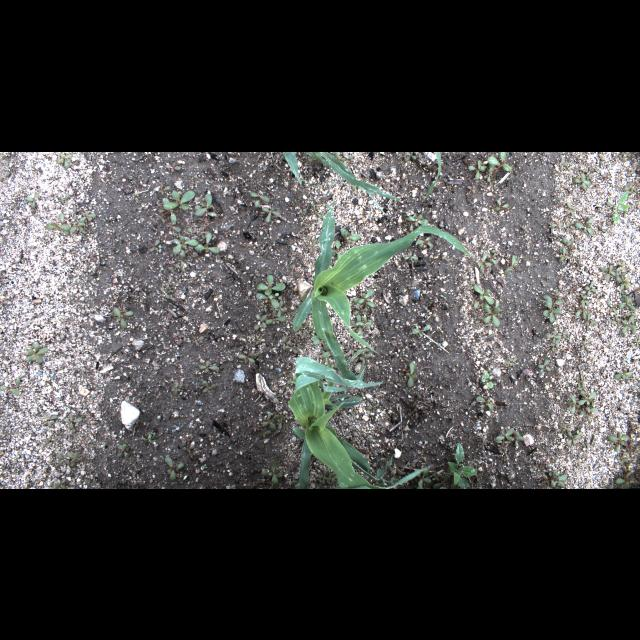crop: (292, 205, 472, 388), (288, 356, 430, 488), (304, 151, 400, 199), (424, 152, 442, 198), (282, 152, 302, 184)
weed: (448, 441, 478, 487), (572, 298, 598, 332), (485, 152, 513, 182), (159, 189, 195, 211), (170, 234, 198, 260), (255, 272, 285, 296), (612, 190, 632, 224), (193, 230, 220, 254), (492, 427, 524, 447), (352, 286, 376, 312), (191, 192, 217, 216), (156, 196, 178, 224), (262, 458, 282, 487), (482, 298, 501, 328), (542, 294, 562, 322), (163, 456, 184, 482), (26, 340, 48, 364), (472, 284, 494, 308), (466, 158, 488, 180), (46, 220, 76, 236), (609, 432, 629, 454), (0, 376, 22, 396), (354, 314, 374, 336), (260, 412, 284, 430), (502, 253, 520, 277), (64, 414, 84, 434), (114, 308, 134, 328), (251, 190, 271, 210), (544, 329, 562, 351), (576, 214, 594, 236), (404, 360, 418, 388), (432, 471, 456, 487), (402, 213, 428, 227), (340, 226, 360, 244), (54, 448, 74, 466), (413, 467, 431, 487), (548, 469, 566, 488), (578, 390, 596, 408), (598, 264, 616, 282), (262, 206, 282, 222), (56, 152, 76, 168), (566, 395, 582, 415), (621, 314, 637, 334), (256, 292, 278, 306), (264, 310, 286, 324), (614, 472, 632, 488), (566, 427, 582, 445), (572, 172, 590, 188), (560, 235, 576, 253), (68, 220, 88, 234), (163, 158, 183, 172), (476, 251, 490, 271), (43, 412, 59, 428), (271, 301, 287, 317), (618, 296, 636, 310), (198, 360, 218, 372), (412, 324, 432, 336), (78, 209, 98, 221), (476, 396, 494, 409), (578, 406, 596, 419), (537, 358, 551, 374), (202, 380, 218, 394), (253, 314, 267, 330), (616, 274, 630, 290), (238, 352, 256, 364), (415, 236, 433, 248), (481, 372, 494, 388), (494, 198, 511, 210), (558, 245, 570, 262), (116, 443, 130, 457), (142, 432, 158, 444), (566, 200, 578, 216), (25, 191, 37, 207), (66, 450, 78, 466), (487, 248, 499, 264), (584, 280, 596, 296), (402, 250, 420, 260), (51, 477, 68, 487), (155, 186, 173, 194), (171, 380, 179, 394), (403, 151, 417, 159), (614, 373, 632, 379), (508, 356, 518, 366)
